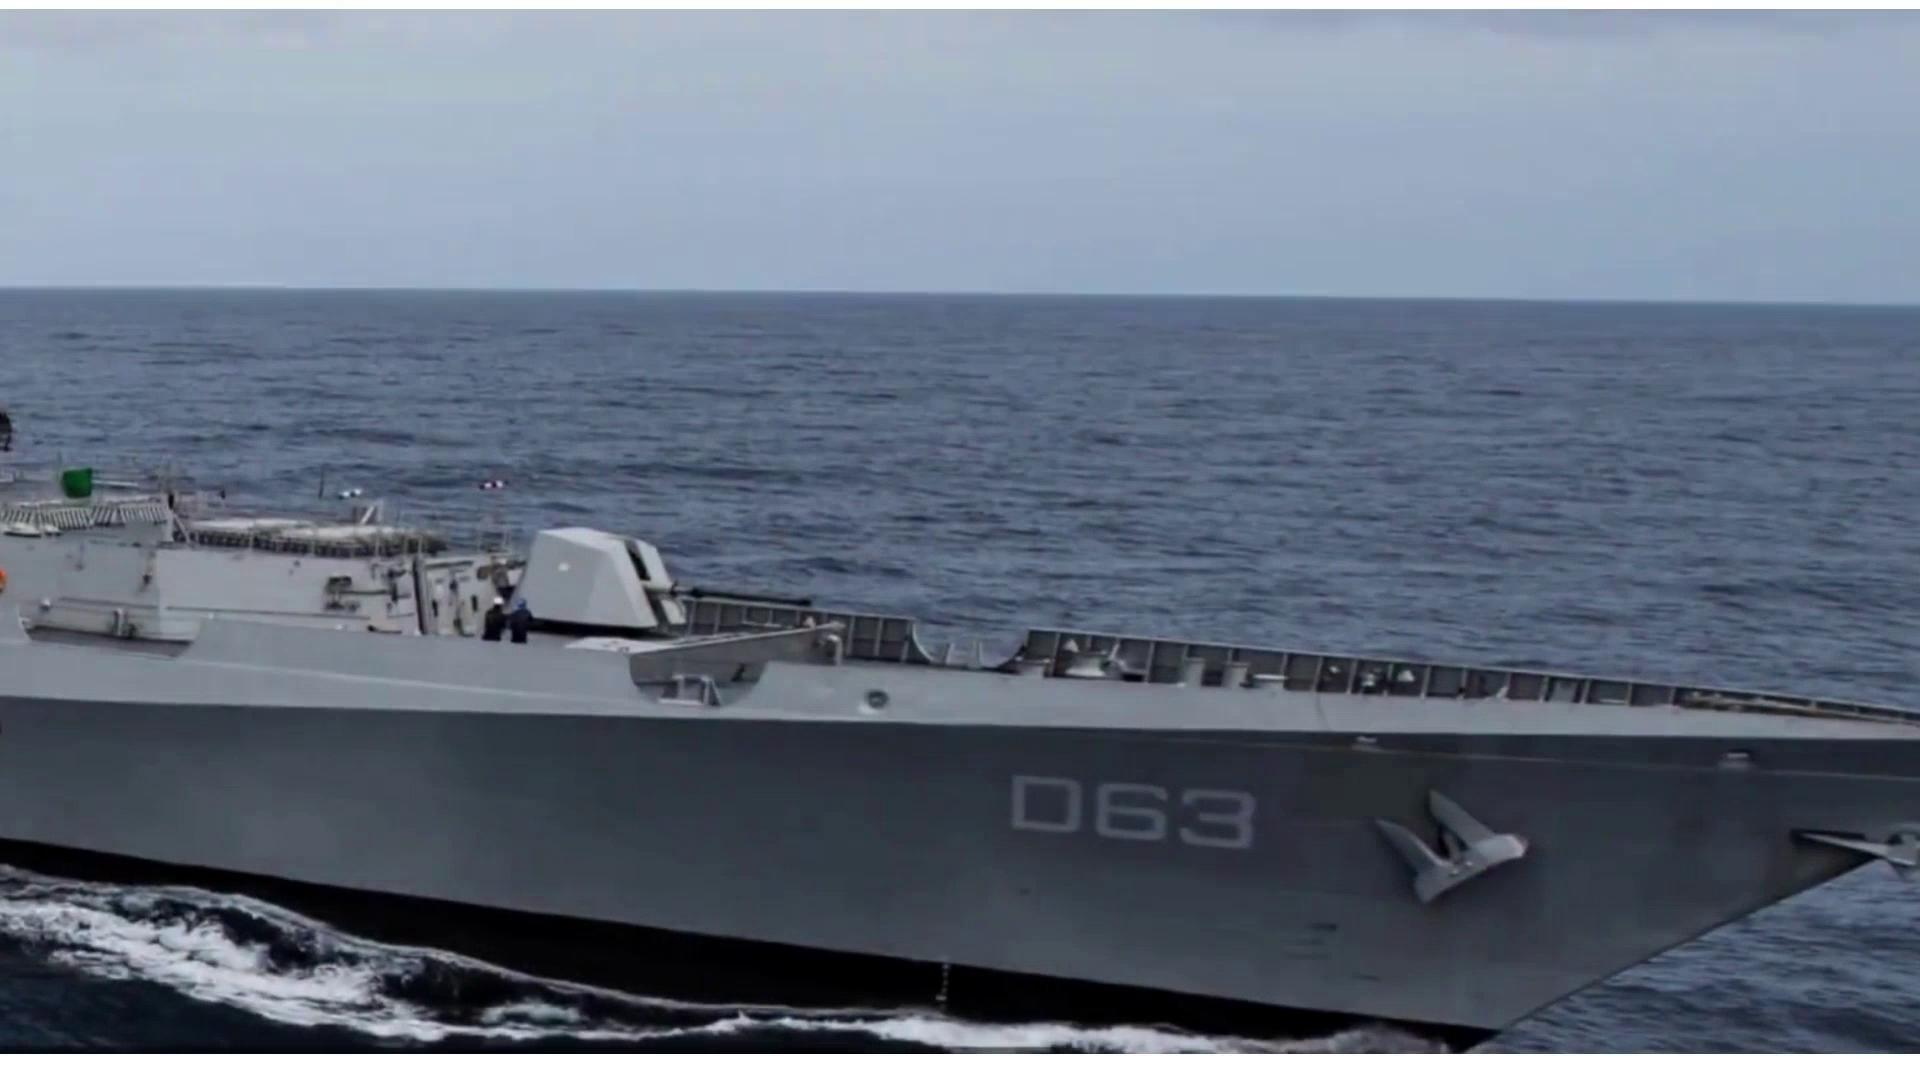OCR: (993, 768, 1267, 858)
